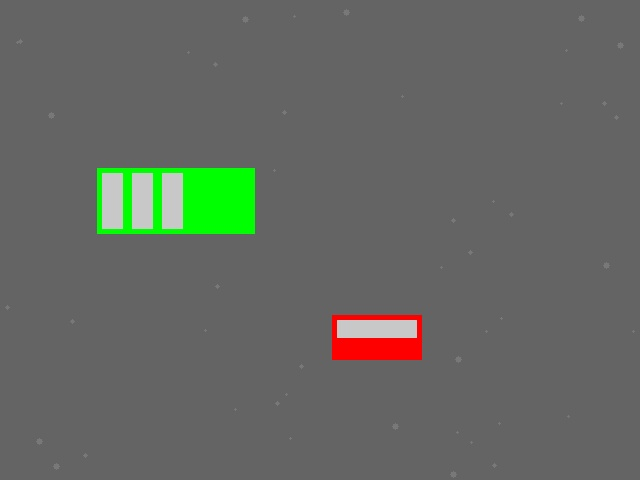bus: (97, 168, 254, 233)
car: (332, 315, 421, 359)
